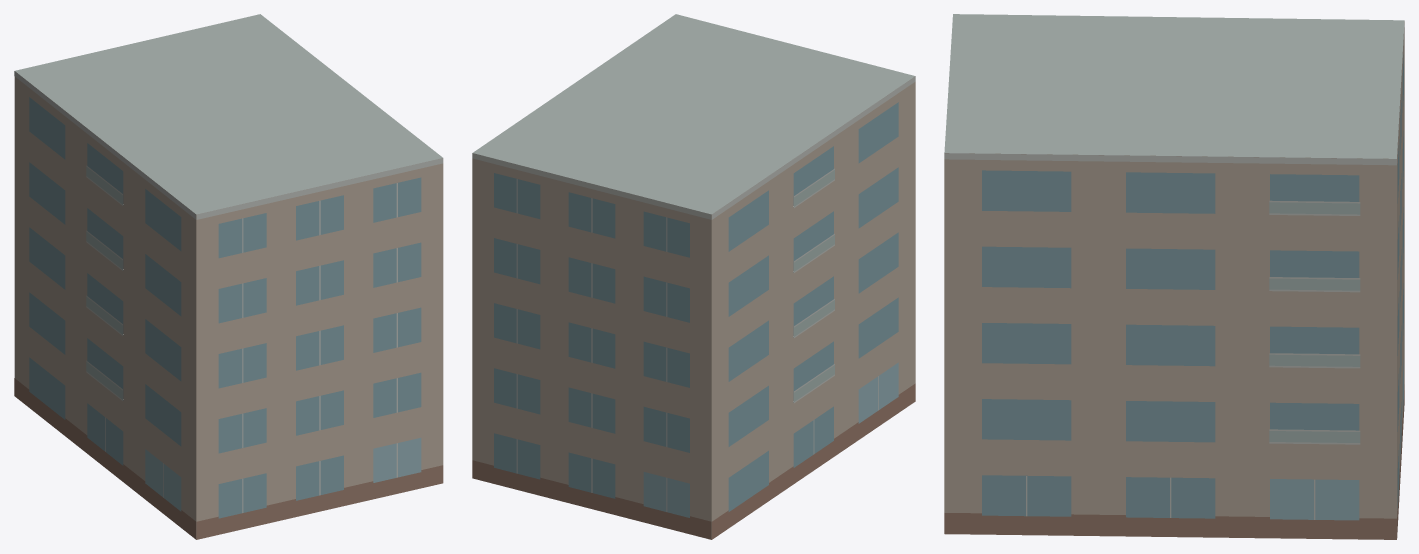
File: survey-upis-32840675.glb
3 views of the same model, side by side, from view 1: azimuth 30°, elevation 25°; view 2: azimuth 150°, elevation 25°; view 3: azimuth 270°, elevation 25° (orthographic). The views are drawn at different scales.
Parts seen in each view (by area): view 1: survey-upis-32840675.tmp; view 2: survey-upis-32840675.tmp; view 3: survey-upis-32840675.tmp.
Boxes of the visible parts, bbox=[...] form: survey-upis-32840675.tmp: bbox=[14, 14, 443, 539]; survey-upis-32840675.tmp: bbox=[472, 14, 915, 539]; survey-upis-32840675.tmp: bbox=[944, 14, 1404, 539].
Size of the model in its own units: 11.92 by 14.6 by 15.99.
